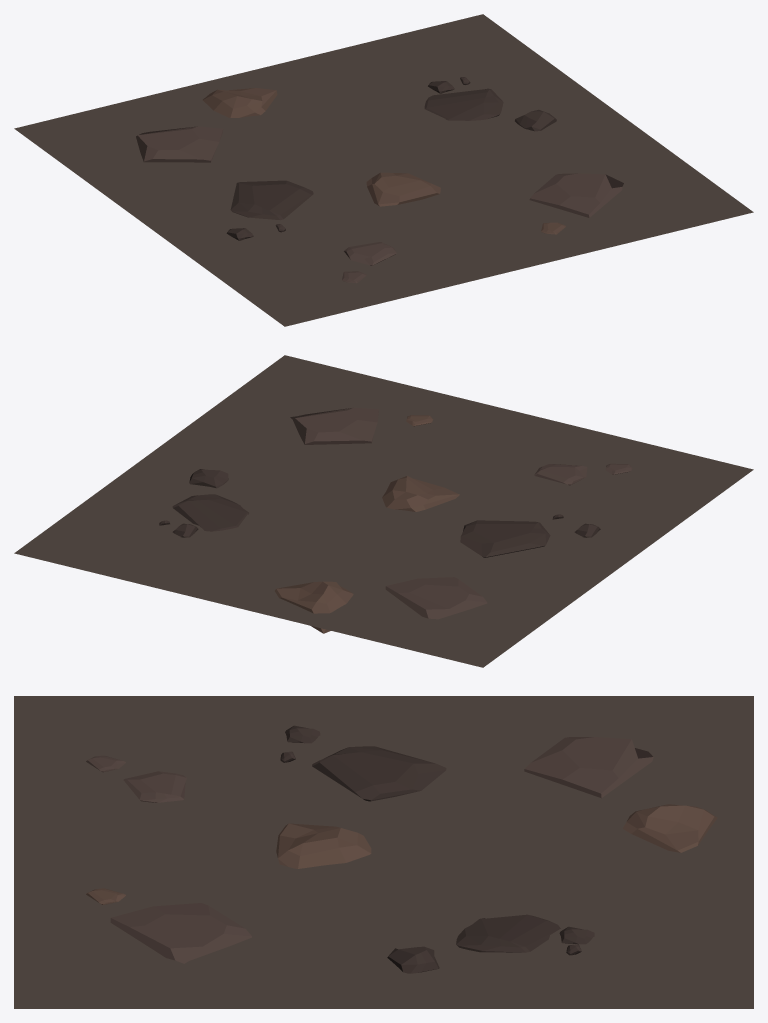
File: Floor1.fbx
The picture shows the model from 3 angles, top to bottom: view 1: azimuth 30°, elevation 25°; view 2: azimuth 150°, elevation 25°; view 3: azimuth 270°, elevation 25°; orthographic projection. The views are drawn at different scales.
Parts seen in each view (by area): view 1: Suelo1; view 2: Suelo1; view 3: Suelo1.
Boxes of the visible parts, x1,y1,x2,y2 form: Suelo1: (14,14,753,326); Suelo1: (14,355,753,667); Suelo1: (14,696,753,1008).
Bounding box in the file's own units: 600 × 33.01 × 600.
